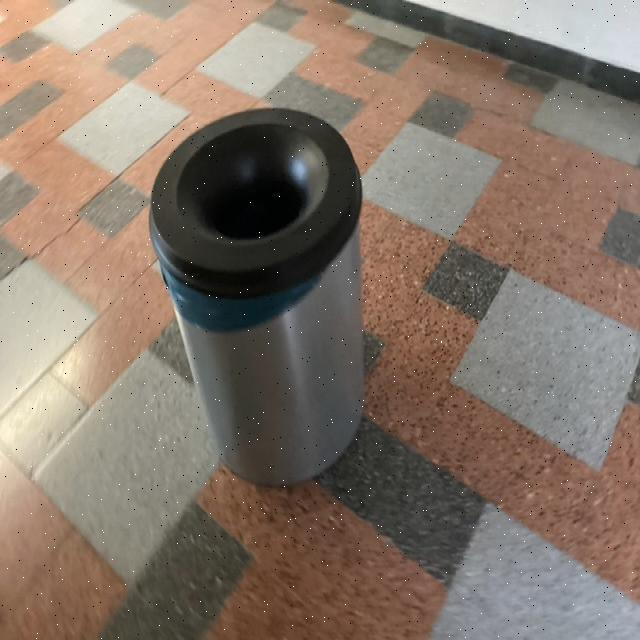garbage container: (143, 87, 395, 499)
